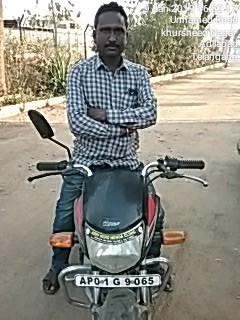plate: (74, 274, 163, 291)
